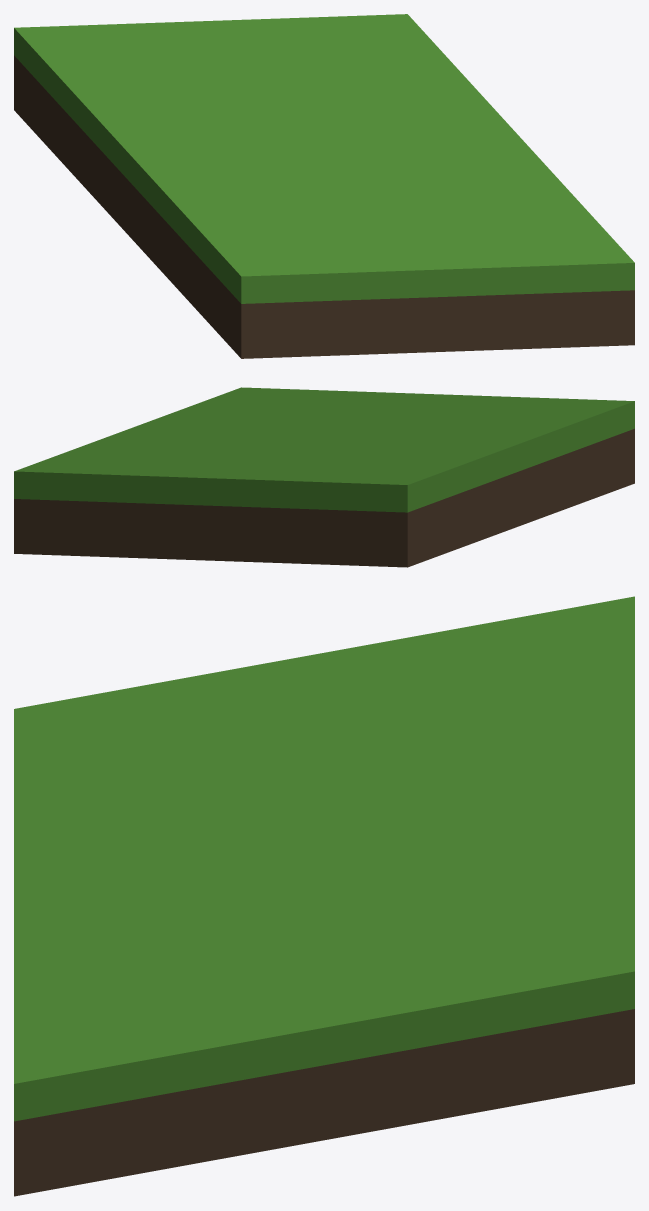
The model's file is tile-hill-askew.glb.
3 views of the same model, one above another, from view 1: azimuth 30°, elevation 25°; view 2: azimuth 150°, elevation 25°; view 3: azimuth 270°, elevation 25° (orthographic). The views are drawn at different scales.
Parts seen in each view (by area): view 1: tile-hill-askew; view 2: tile-hill-askew; view 3: tile-hill-askew.
Part boxes in pixels (x1,y1,x2,y2): tile-hill-askew: (14, 14, 634, 358); tile-hill-askew: (14, 387, 634, 567); tile-hill-askew: (14, 596, 634, 1196).
Size of the model in its own units: 30 by 18 by 30.
Materials: 1 (1 with a texture image).
